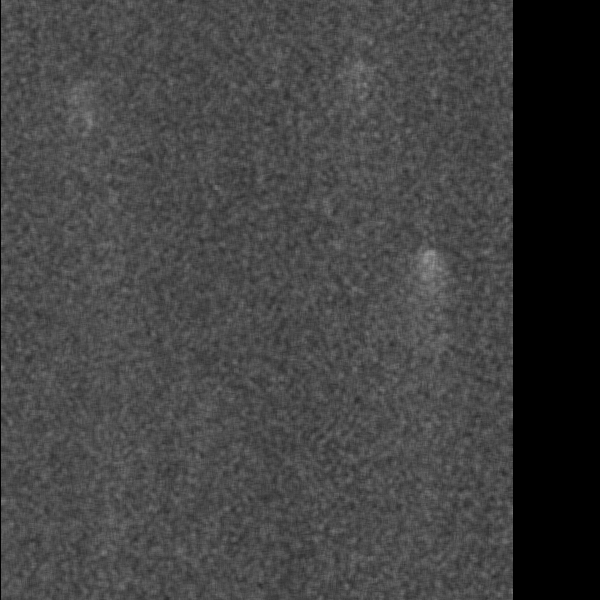spark: (415, 243, 442, 332), (77, 95, 98, 142), (348, 54, 372, 78)
